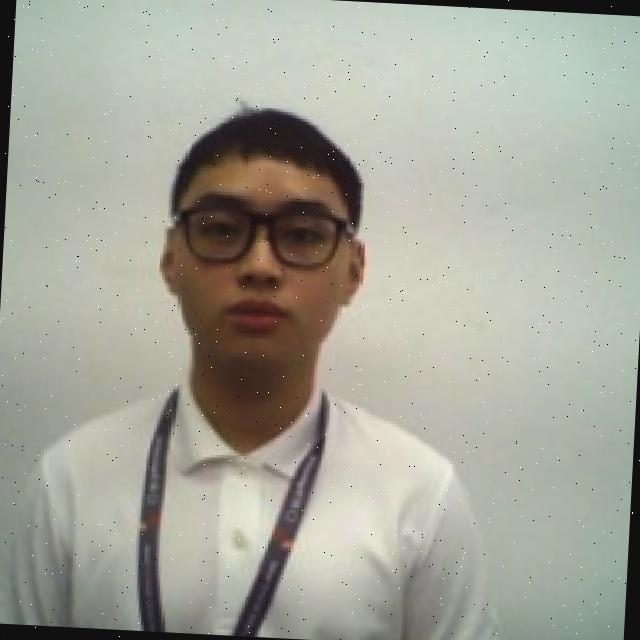no_gloves: (164, 96, 370, 231)
no_hairnet: (148, 225, 370, 384)
